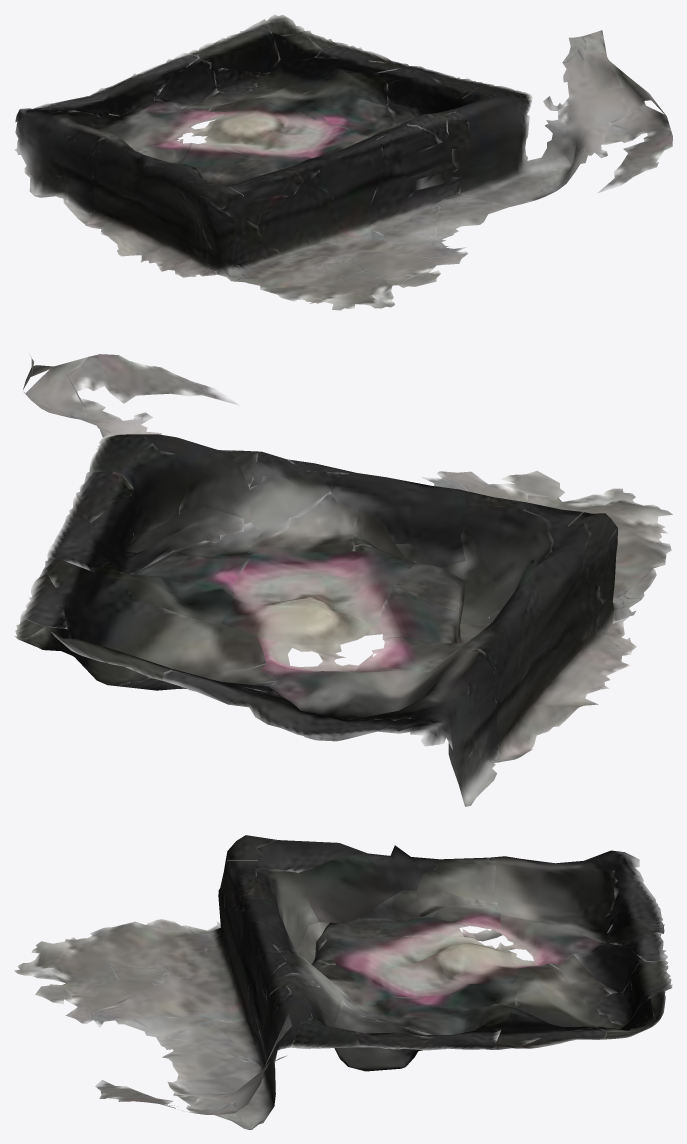
Rendered from hall.glb.
3 renders of one model, top to bottom at view 1: azimuth 30°, elevation 25°; view 2: azimuth 150°, elevation 25°; view 3: azimuth 270°, elevation 25°, orthographic. The views are drawn at different scales.
Size of the model in its own units: 0.578 by 0.166 by 0.5706.
Materials: 1 (1 with a texture image).
